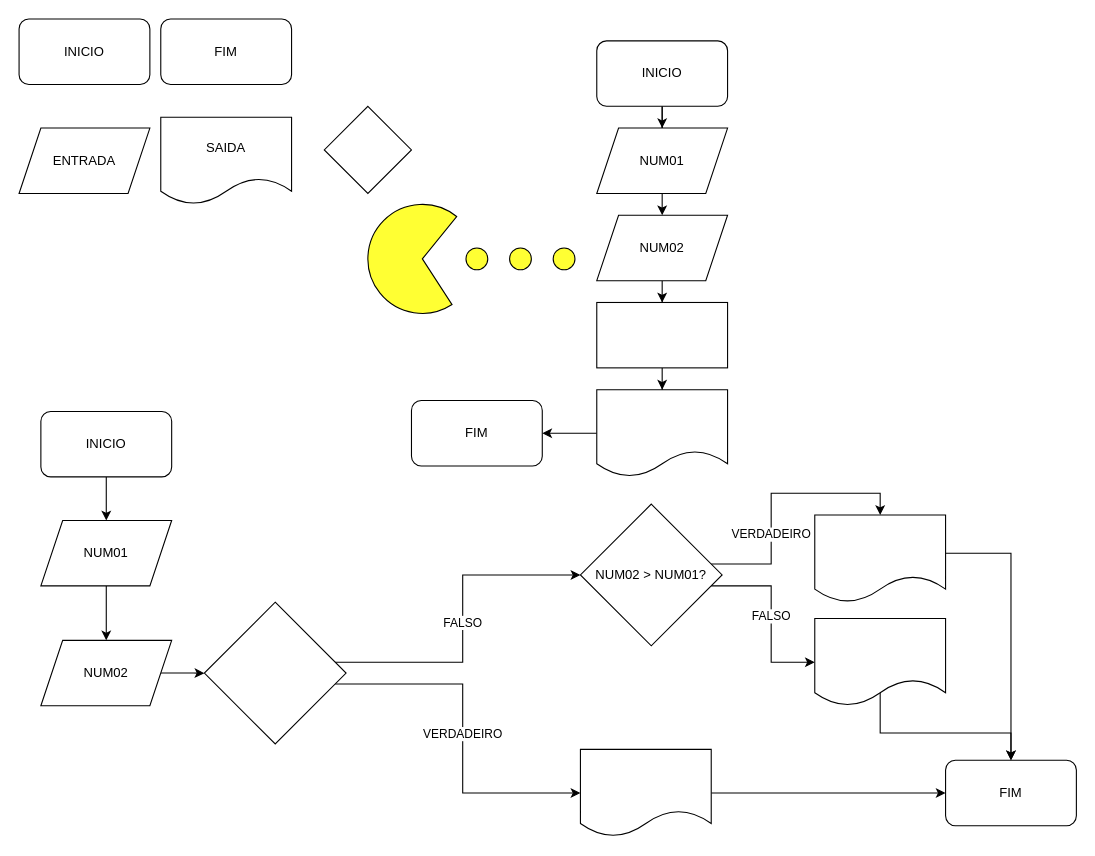
The diagram is 1095 pixels wide and 856 high, and some of its shapes have lost their labels. The centre of each missing label's shape, as x and y in pixels:
DECISÃO: (367,149)
NUM01 = NUM02: (880,661)
NUM01 > NUM02?: (274,672)
NUM01 É MAIOR QUE NUM02: (645,792)
NUM02 É MAIOR QUE NUM01: (880,558)
NUM03: (662,433)
NUM03 = NUM01 + NUM02: (662,334)
